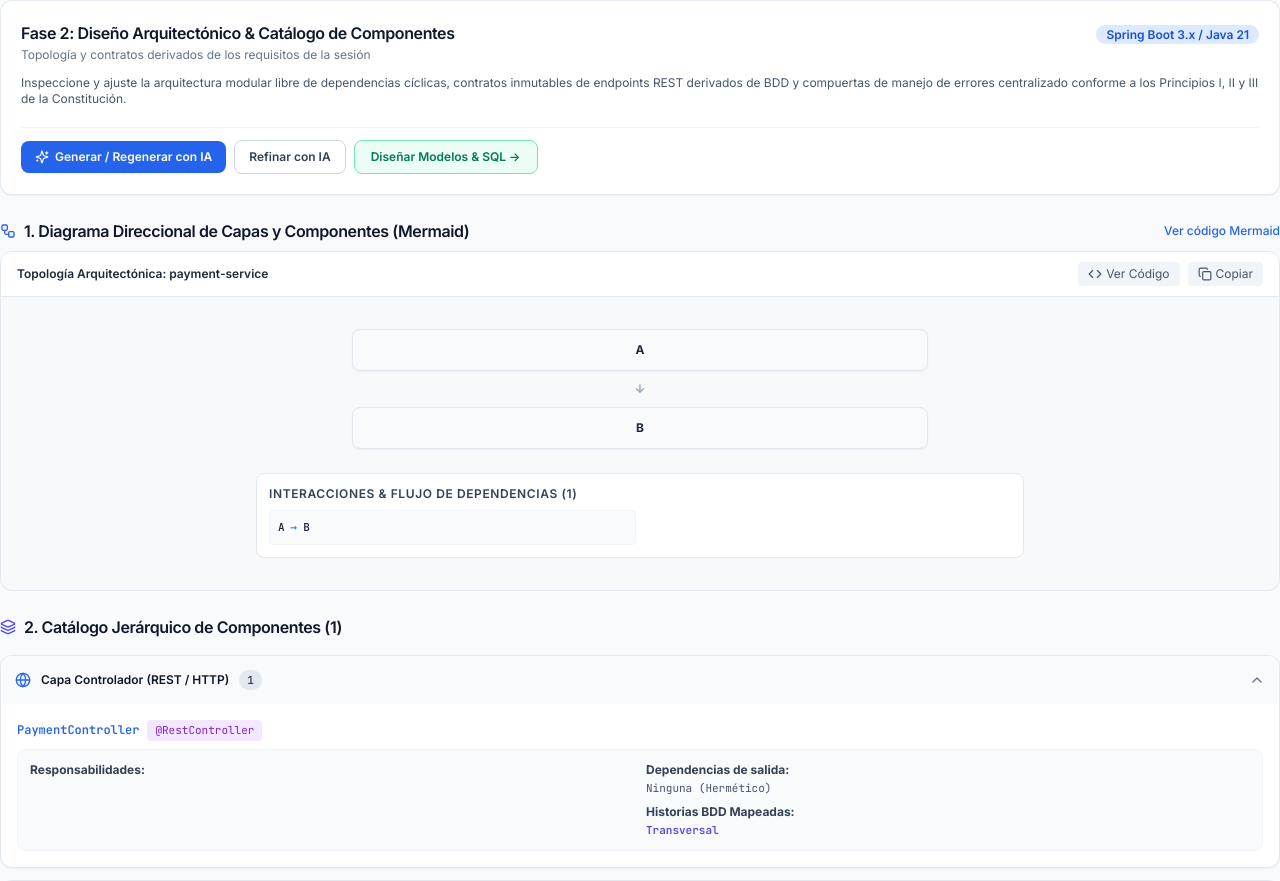
Scenario: Views: ArchitectureView & DomainModelsView › ArchitectureView › opens refine drawer when Refinar con IA is clicked on active design
Expected: the text "Capa Controlador (REST / HTTP)" is shown, [41,672,229,688]
Click the button "Refinar con IA" at {"x": 290, "y": 157}, box [234,140,346,174]
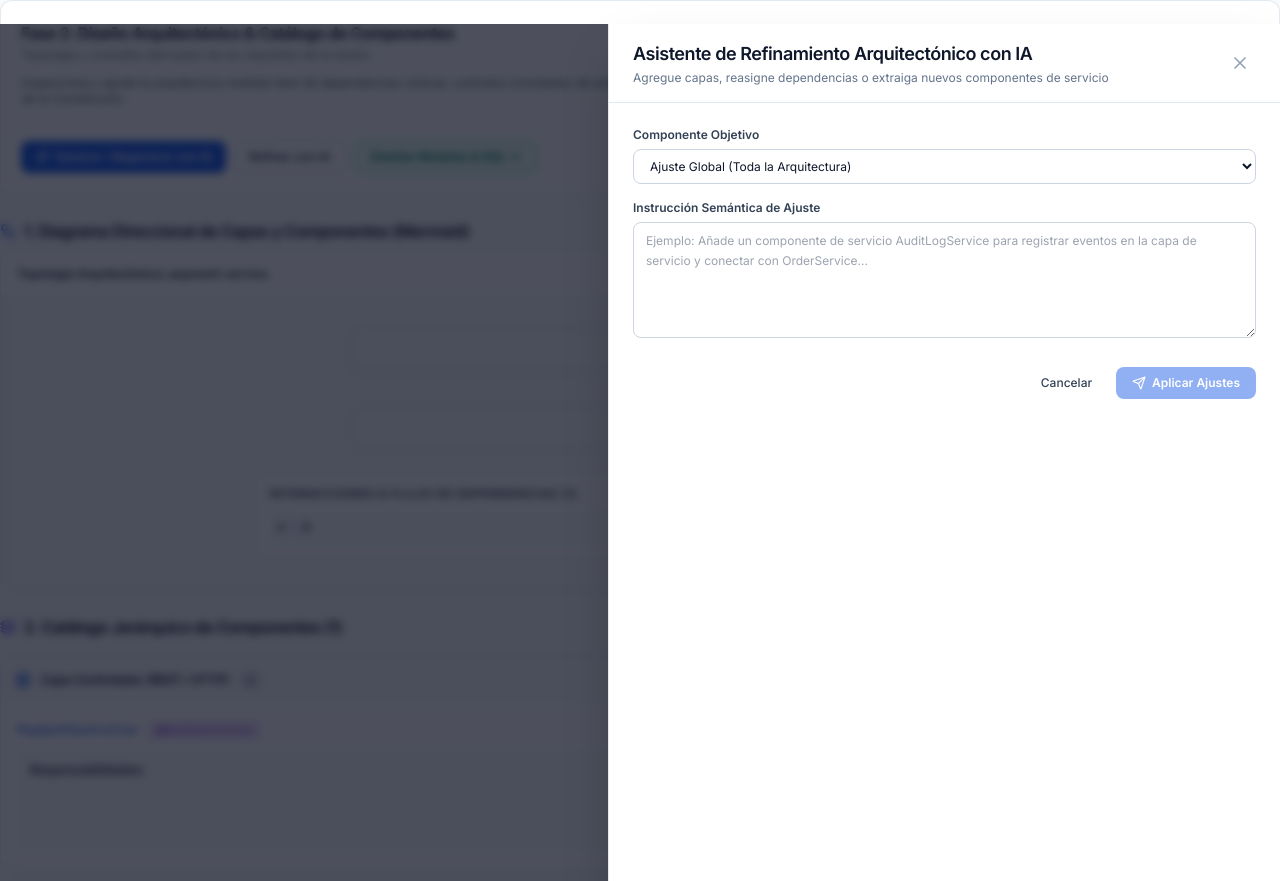
Result: the heading "Asistente de Refinamiento Arquitectónico con IA" is shown at [633,43,1032,64]
